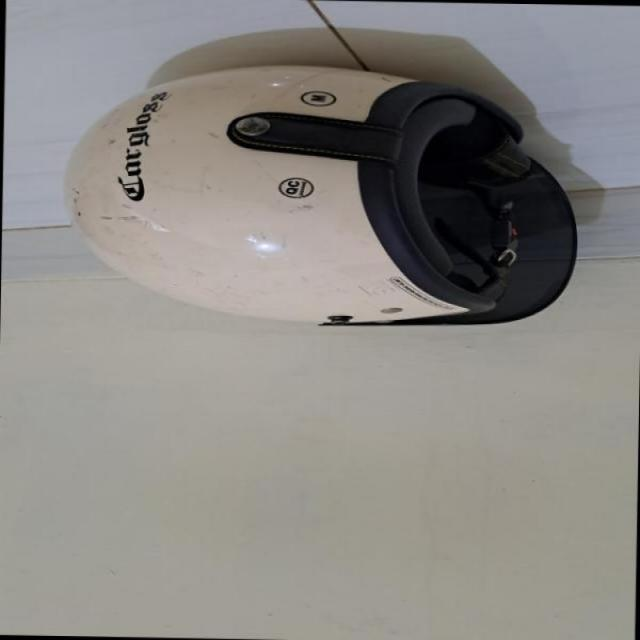Helmet: (58, 69, 580, 340)
